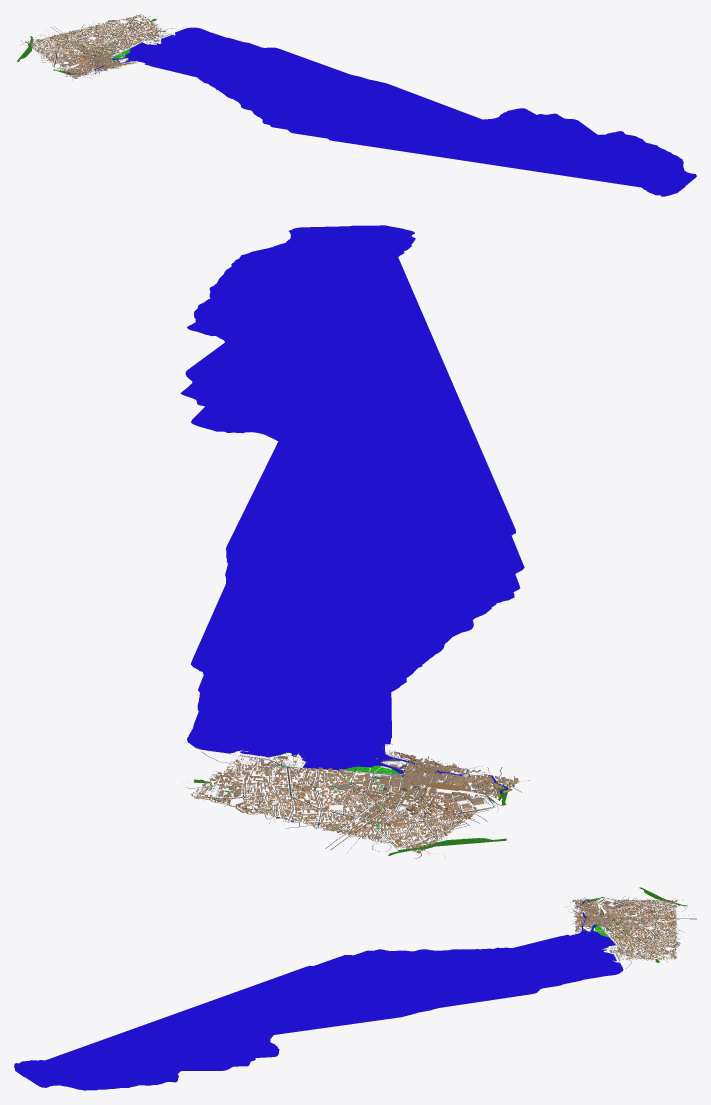
Rendered from annecy.fbx.
The picture shows the model from 3 angles, top to bottom: view 1: azimuth 30°, elevation 25°; view 2: azimuth 150°, elevation 25°; view 3: azimuth 270°, elevation 25°; orthographic projection. The views are drawn at different scales.
Parts seen in each view (by area): view 1: map_water, map_roads_residential; view 2: map_water, map_roads_residential, map_roads_service; view 3: map_water, map_roads_residential.
Boxes of the visible parts, x1,y1,x2,y2 form: map_water: [16, 14, 696, 196]; map_roads_residential: [29, 19, 161, 78]; map_water: [180, 225, 524, 855]; map_roads_residential: [202, 756, 514, 848]; map_roads_service: [193, 750, 514, 851]; map_water: [14, 887, 687, 1090]; map_roads_residential: [565, 896, 696, 960].
Bounding box in the file's own units: 9932 × 55 × 14102.
